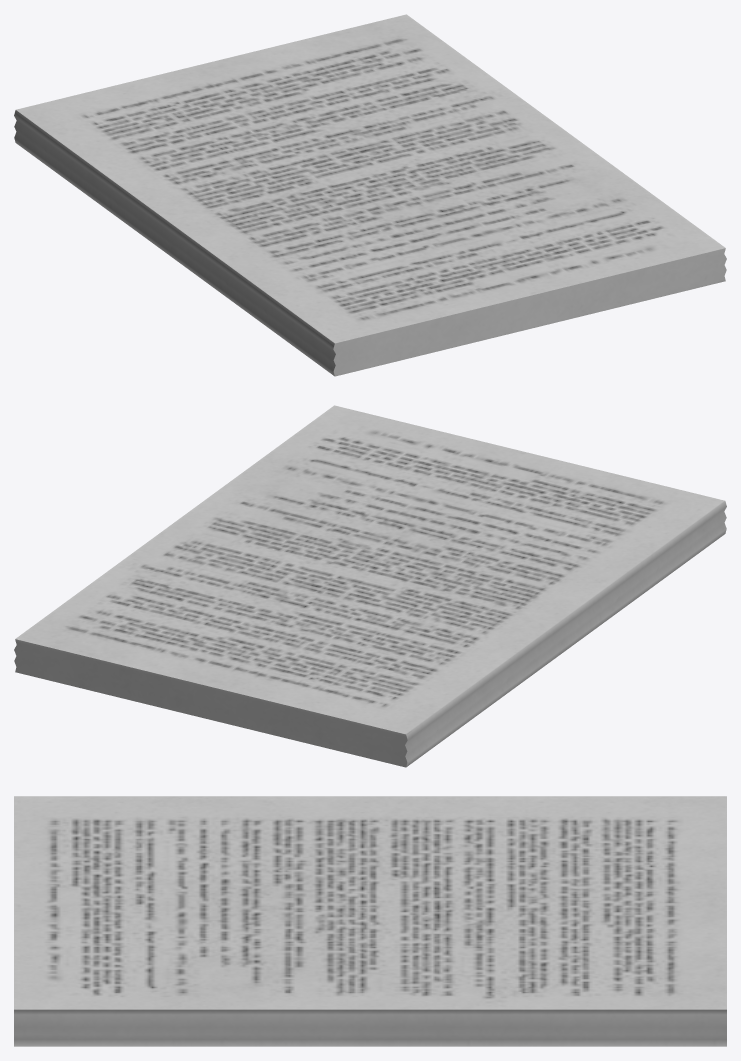
Rendered from Papers.fbx.
3 views of the same model, one above another, from view 1: azimuth 30°, elevation 25°; view 2: azimuth 150°, elevation 25°; view 3: azimuth 270°, elevation 25° (orthographic). The views are drawn at different scales.
Parts seen in each view (by area): view 1: Papers; view 2: Papers; view 3: Papers.
Part boxes in pixels (x1=…): Papers: x1=14, y1=14, x2=726, y2=376; Papers: x1=14, y1=405, x2=726, y2=767; Papers: x1=14, y1=796, x2=726, y2=1046.
Bounding box in the file's own units: 21.14 × 1.7 × 29.7.
